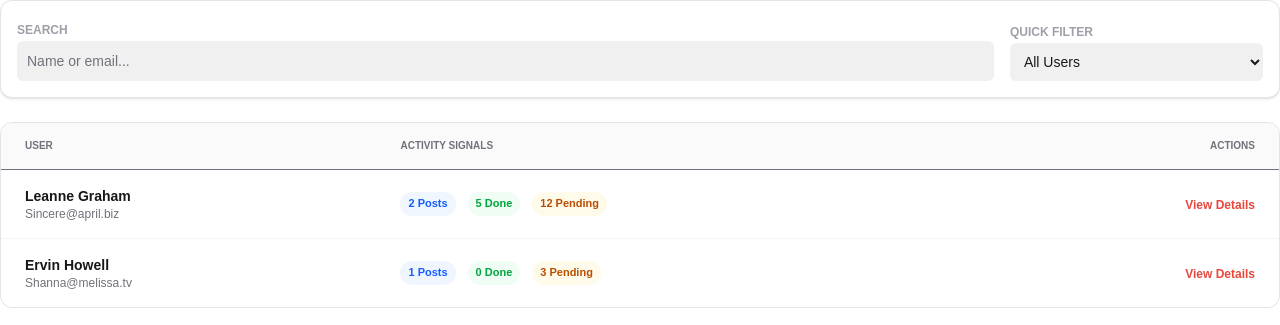
Komponen UsersTable › menampilkan pesan 'empty state' jika tidak ada user yang cocok dengan kriteria pencarian
In the field with placeholder "Name or email...": (505, 61) [17, 41, 994, 81], type "Unknown User"
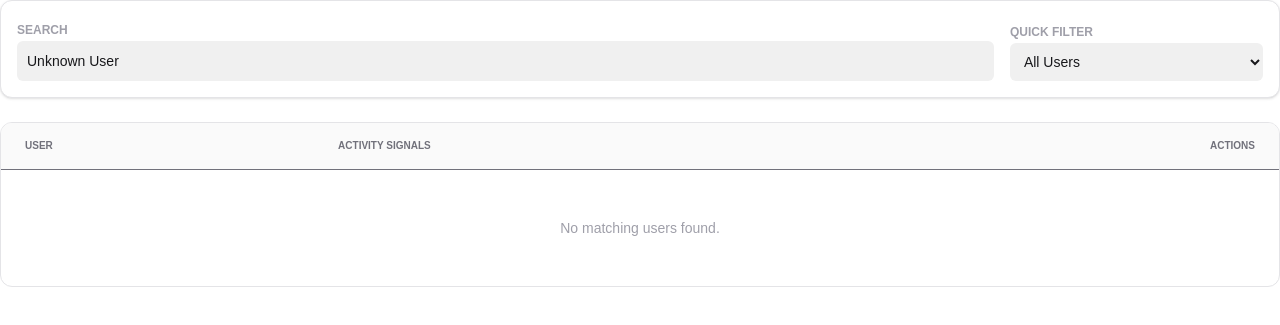
Expected: the text "No matching users found." is shown, [1, 170, 1279, 286]
